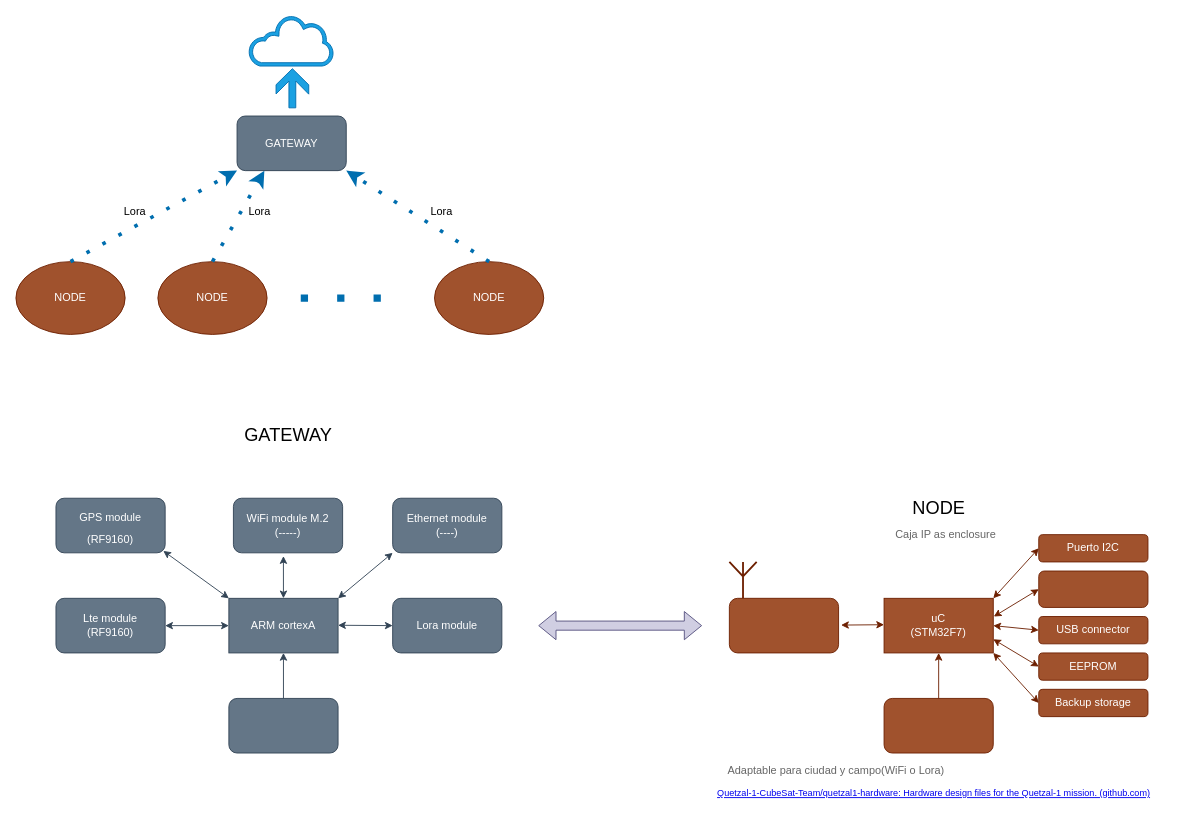
The diagram is 1178 pixels wide and 824 high, and some of its shapes have lost their labels. Here are the shapes that lost their labels. From the top down, the centre of each, then its label:
the point at 291,61: LTE / WiFi
the point at 1093,588: Puerto RS485 (Modbus)
the point at 783,625: Lora module / WiFi (sx1278-433MHz)
the point at 283,725: Battery module
the point at 938,725: Electric Power System
